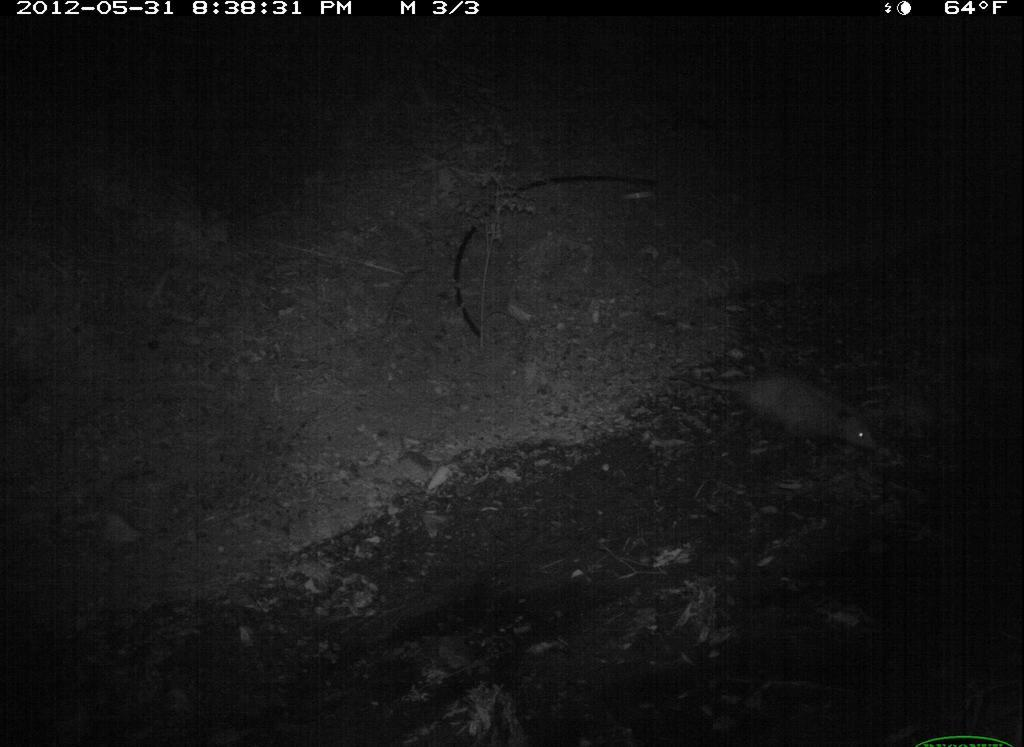opossum: (675, 353, 893, 468)
